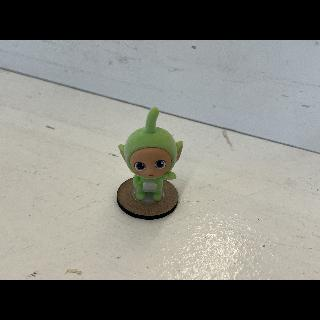teletubby: (118, 107, 183, 202)
